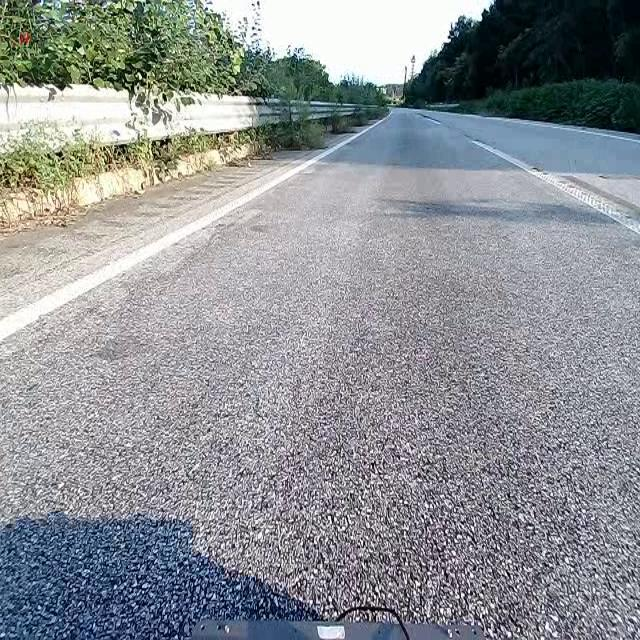Lane: (0, 118, 384, 344), (0, 120, 382, 343), (468, 128, 640, 240), (471, 140, 639, 234)
